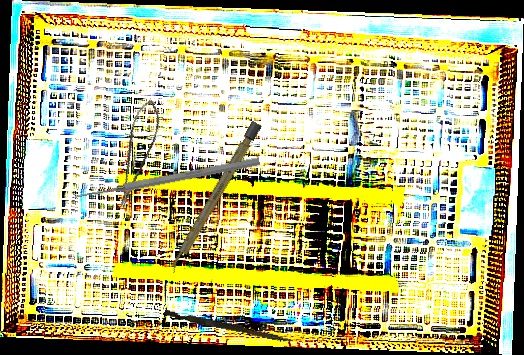Micro Scissor: (101, 96, 169, 210)
Pusher: (73, 155, 261, 203), (163, 309, 295, 344)
Scalpel Handle: (166, 120, 263, 275)
